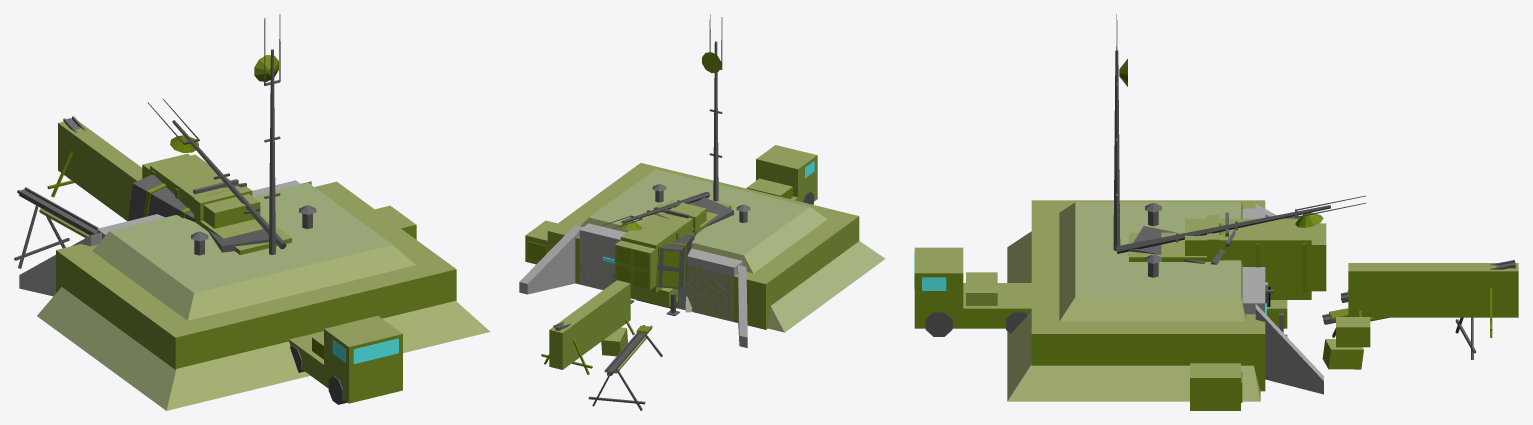
The model's file is aaa.glb.
The picture shows the model from 3 angles, left to right: view 1: azimuth 30°, elevation 25°; view 2: azimuth 150°, elevation 25°; view 3: azimuth 270°, elevation 25°; orthographic projection. The views are drawn at different scales.
Parts seen in each view (by area): view 1: aaa_116_lod0_s1v0, aaa_116_lod1_s1v0, aaa_113_lod1_s1v0, aaa_116_lod0_s1v1, aaa_113_lod0_s1v0, aaa_113_lod0_s1v1, aaa_114_lod1_s1v0, aaa_114_lod0_s1v1, aaa_113_lod0_s1v0_part2, aaa_114_lod0_s1v0_part1; view 2: aaa_116_lod0_s1v0, aaa_116_lod1_s1v0, aaa_113_lod1_s1v0, aaa_116_lod0_s1v1, aaa_113_lod0_s1v0_part2, aaa_113_lod0_s1v0, aaa_113_lod0_s1v1, aaa_114_lod0_s1v1, aaa_114_lod1_s1v0; view 3: aaa_116_lod0_s1v0, aaa_116_lod1_s1v0, aaa_113_lod1_s1v0, aaa_113_lod0_s1v0, aaa_116_lod0_s1v1, aaa_113_lod0_s1v0_part2, aaa_114_lod1_s1v0, aaa_114_lod0_s1v1, aaa_114_lod0_s1v0_part1.
Part boxes in pixels (x1,y1,x2,y2): aaa_116_lod0_s1v0: (19,14,490,410); aaa_116_lod1_s1v0: (56,121,456,369); aaa_113_lod1_s1v0: (150,154,402,403); aaa_116_lod0_s1v1: (14,99,286,268); aaa_113_lod0_s1v0: (290,322,398,404); aaa_113_lod0_s1v1: (128,174,194,221); aaa_114_lod1_s1v0: (194,186,291,250); aaa_114_lod0_s1v1: (208,183,268,252); aaa_113_lod0_s1v0_part2: (142,153,260,225); aaa_114_lod0_s1v0_part1: (193,179,291,254); aaa_116_lod0_s1v0: (519,14,885,374); aaa_116_lod1_s1v0: (547,163,859,369); aaa_113_lod1_s1v0: (620,145,817,307); aaa_116_lod0_s1v1: (588,191,710,410); aaa_113_lod0_s1v0_part2: (615,212,706,289); aaa_113_lod0_s1v0: (630,146,814,315); aaa_113_lod0_s1v1: (655,232,696,289); aaa_114_lod0_s1v1: (647,197,734,226); aaa_114_lod1_s1v0: (657,196,731,233); aaa_116_lod0_s1v0: (1007,14,1515,410); aaa_116_lod1_s1v0: (1031,200,1518,391); aaa_113_lod1_s1v0: (914,218,1311,328); aaa_113_lod0_s1v0: (914,248,1287,336); aaa_116_lod0_s1v1: (1116,195,1476,369); aaa_113_lod0_s1v0_part2: (1243,223,1326,292); aaa_114_lod1_s1v0: (1129,215,1219,261); aaa_114_lod0_s1v1: (1128,226,1235,264); aaa_114_lod0_s1v0_part1: (1129,212,1228,261).
Size of the model in its own units: 261 by 263 by 407.
